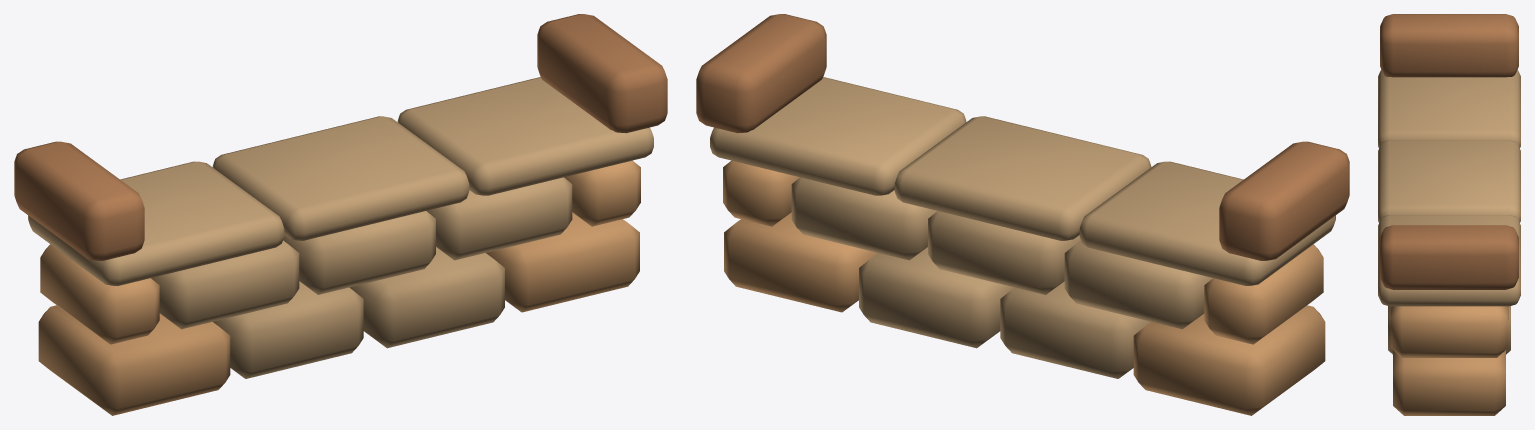
Rendered from desert_wall.glb.
3 views of the same model, side by side, from view 1: azimuth 30°, elevation 25°; view 2: azimuth 150°, elevation 25°; view 3: azimuth 270°, elevation 25° (orthographic). The views are drawn at different scales.
Visible parts, largest first — view 1: D_Wall__D_s2, D_Wall__D_s1, D_Wall__D_s3; view 2: D_Wall__D_s2, D_Wall__D_s1, D_Wall__D_s3; view 3: D_Wall__D_s2, D_Wall__D_s3, D_Wall__D_s1.
Part boxes in pixels (x1=…): D_Wall__D_s2: x1=28, y1=77, x2=653, y2=378; D_Wall__D_s1: x1=38, y1=160, x2=640, y2=415; D_Wall__D_s3: x1=14, y1=14, x2=667, y2=260; D_Wall__D_s2: x1=710, y1=77, x2=1335, y2=378; D_Wall__D_s1: x1=723, y1=160, x2=1325, y2=415; D_Wall__D_s3: x1=696, y1=14, x2=1349, y2=260; D_Wall__D_s2: x1=1378, y1=69, x2=1520, y2=354; D_Wall__D_s3: x1=1380, y1=14, x2=1518, y2=289; D_Wall__D_s1: x1=1390, y1=306, x2=1508, y2=415.
Bounding box in the file's own units: 2.96 × 1.08 × 0.76.
